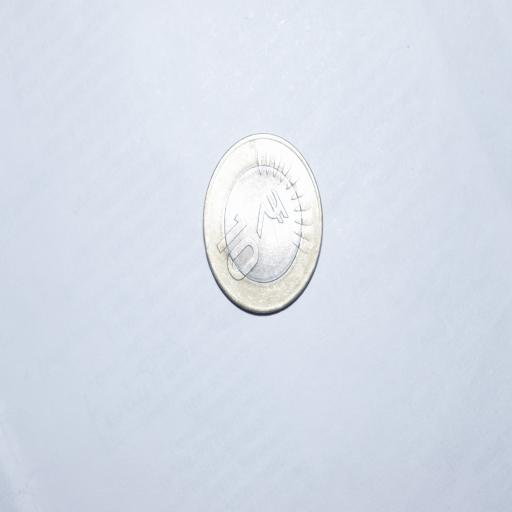rupee10: (202, 134, 324, 316)
